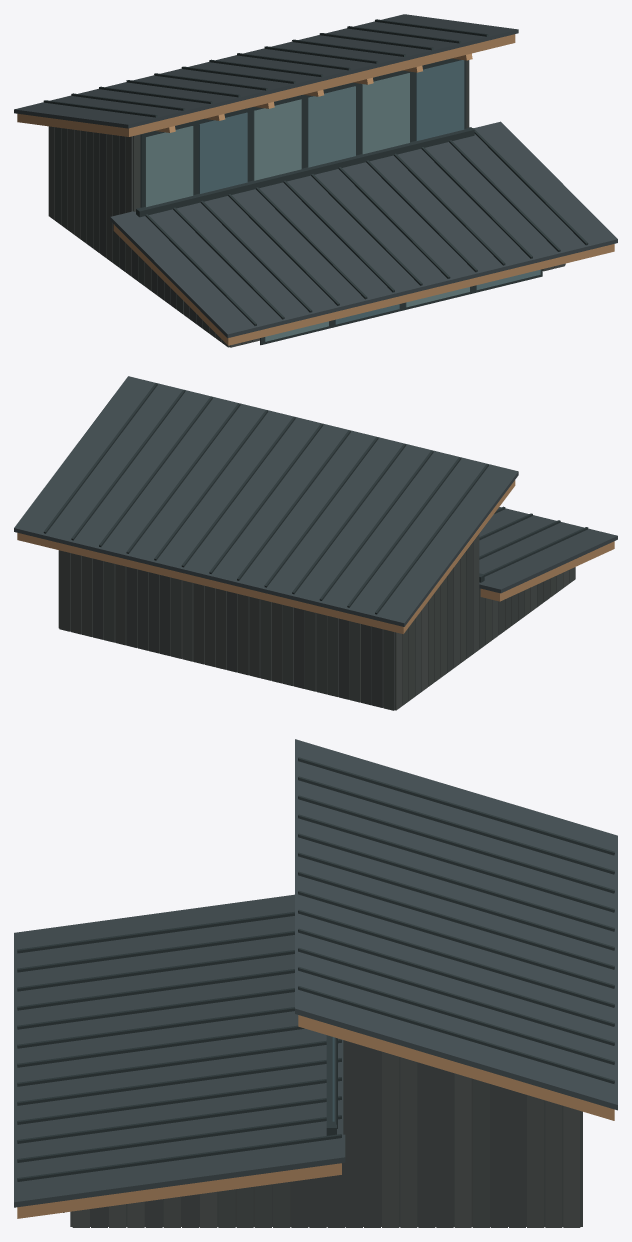
File: raised_clerestory.glb
3 renders of one model, top to bottom at view 1: azimuth 30°, elevation 25°; view 2: azimuth 150°, elevation 25°; view 3: azimuth 270°, elevation 25°, orthographic. The views are drawn at different scales.
Visible parts, largest first — view 1: KitRaisedClerestoryRoofFinish, KitRaisedClerestoryDetails, KitRaisedClerestorySiding; view 2: KitRaisedClerestoryRoofFinish, KitRaisedClerestorySiding, KitRaisedClerestoryDetails; view 3: KitRaisedClerestoryRoofFinish, KitRaisedClerestoryDetails, KitRaisedClerestorySiding.
Boxes of the visible parts, x1=… form: KitRaisedClerestoryRoofFinish: x1=14, y1=14, x2=617, y2=338; KitRaisedClerestoryDetails: x1=17, y1=19, x2=614, y2=345; KitRaisedClerestorySiding: x1=48, y1=58, x2=565, y2=347; KitRaisedClerestoryRoofFinish: x1=14, y1=376, x2=617, y2=626; KitRaisedClerestorySiding: x1=58, y1=534, x2=575, y2=710; KitRaisedClerestoryDetails: x1=17, y1=383, x2=614, y2=634; KitRaisedClerestoryRoofFinish: x1=14, y1=739, x2=617, y2=1207; KitRaisedClerestoryDetails: x1=17, y1=757, x2=614, y2=1218; KitRaisedClerestorySiding: x1=70, y1=1040, x2=582, y2=1227.
Size of the model in its own units: 6.63 by 2.82 by 6.28.
